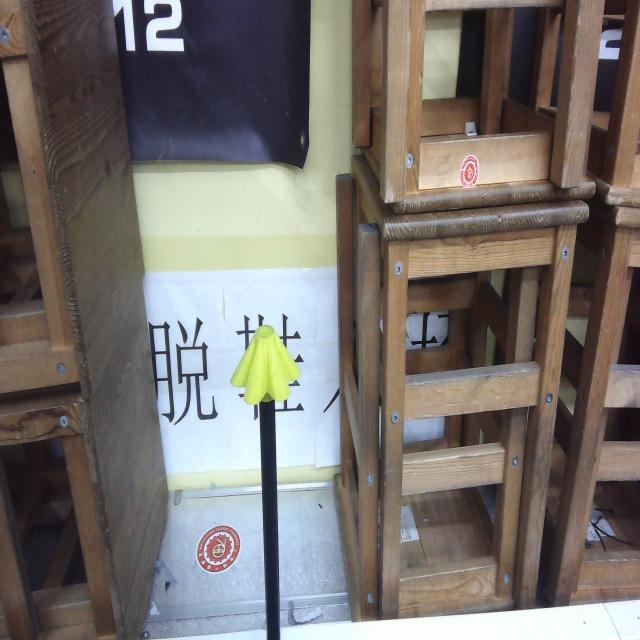Yellow-Stake-Head: (229, 326, 300, 406)
